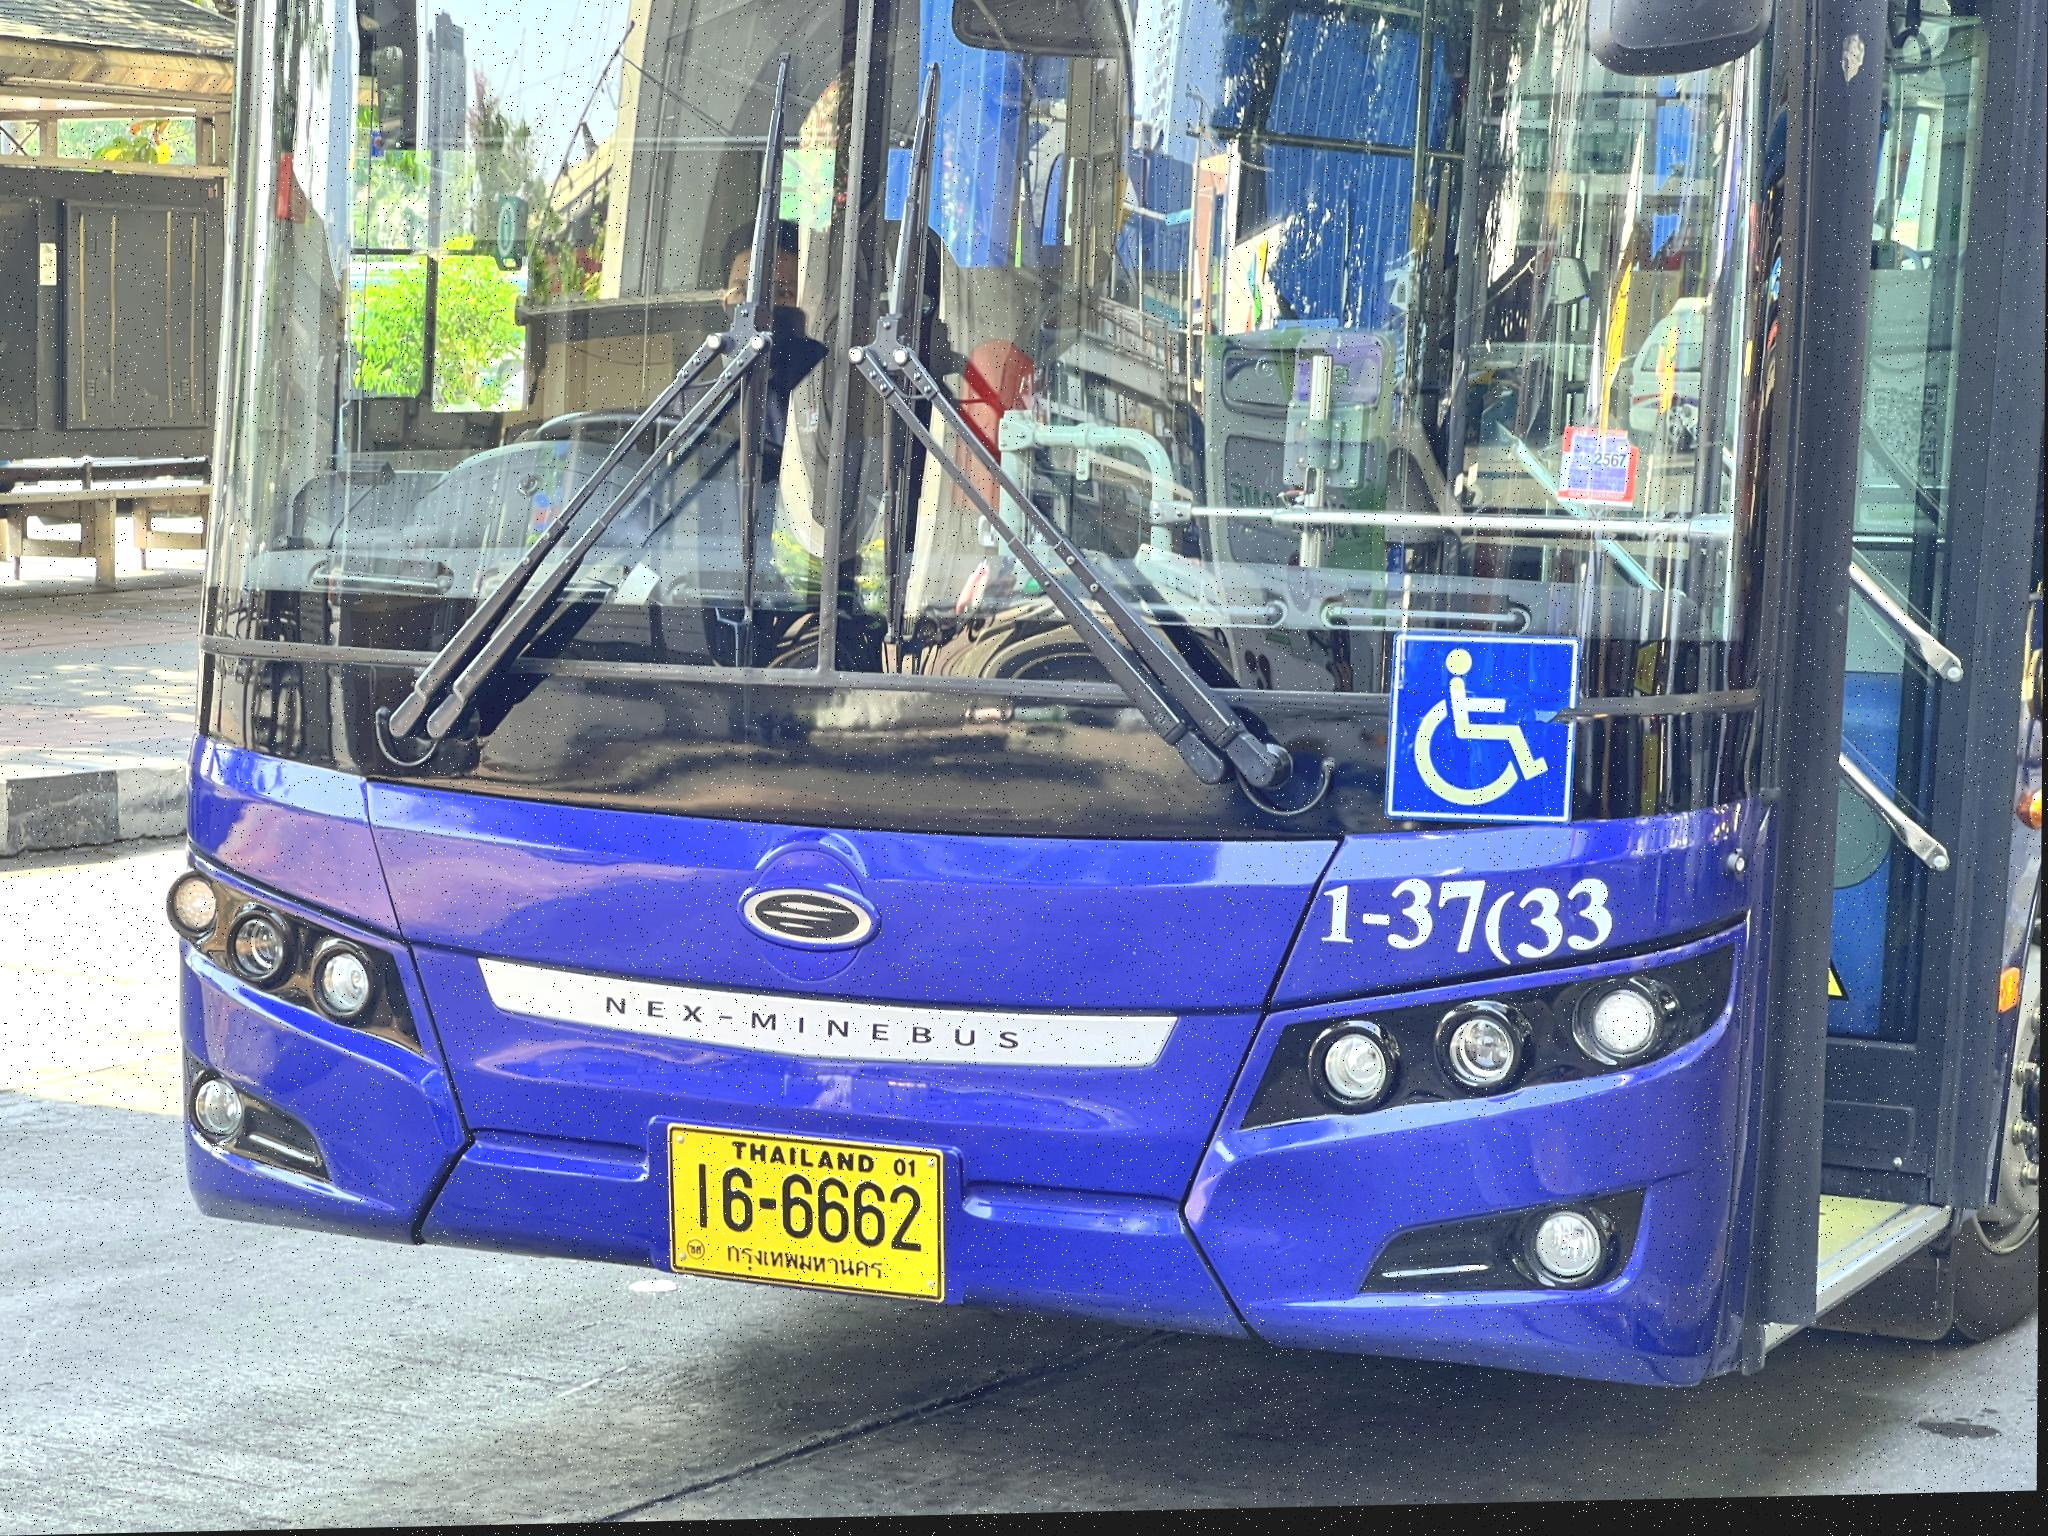Bus Side Number: (1305, 862, 1630, 984)
TSB-Bus: (163, 0, 2048, 1404)
